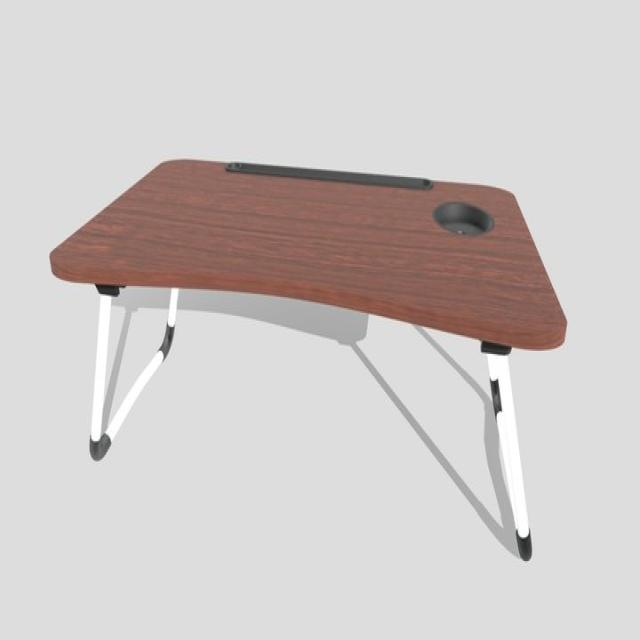table: (50, 153, 568, 563)
